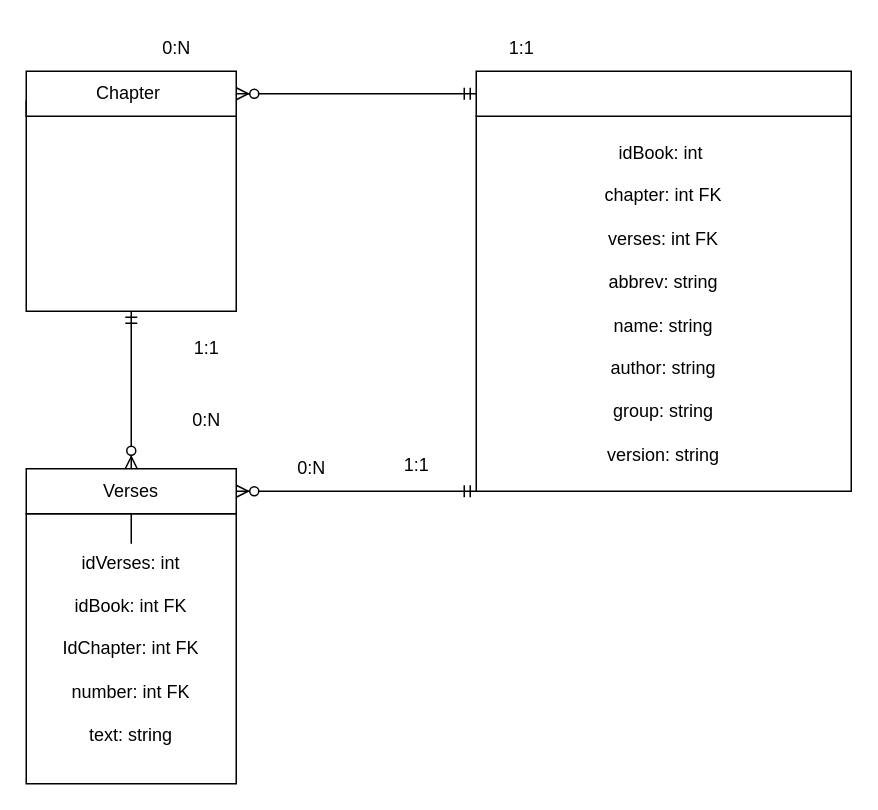
Some shapes in this 878 by 810 pixel diagram are drawn without their labels. Here are the shapes that lost their labels. From the top down, the box of each, then its label:
(475, 70, 851, 116): Book
(25, 100, 236, 311): idChapter: int PK idBook: int FK number: int verses: int
